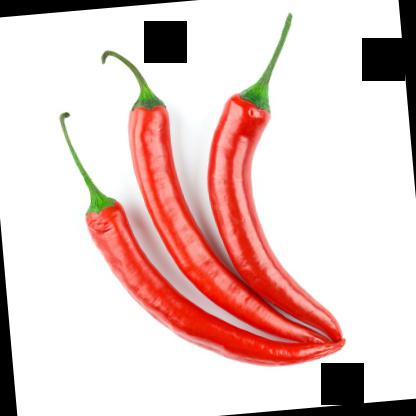chilli: (60, 92, 347, 386), (102, 38, 334, 362), (194, 13, 340, 354)
